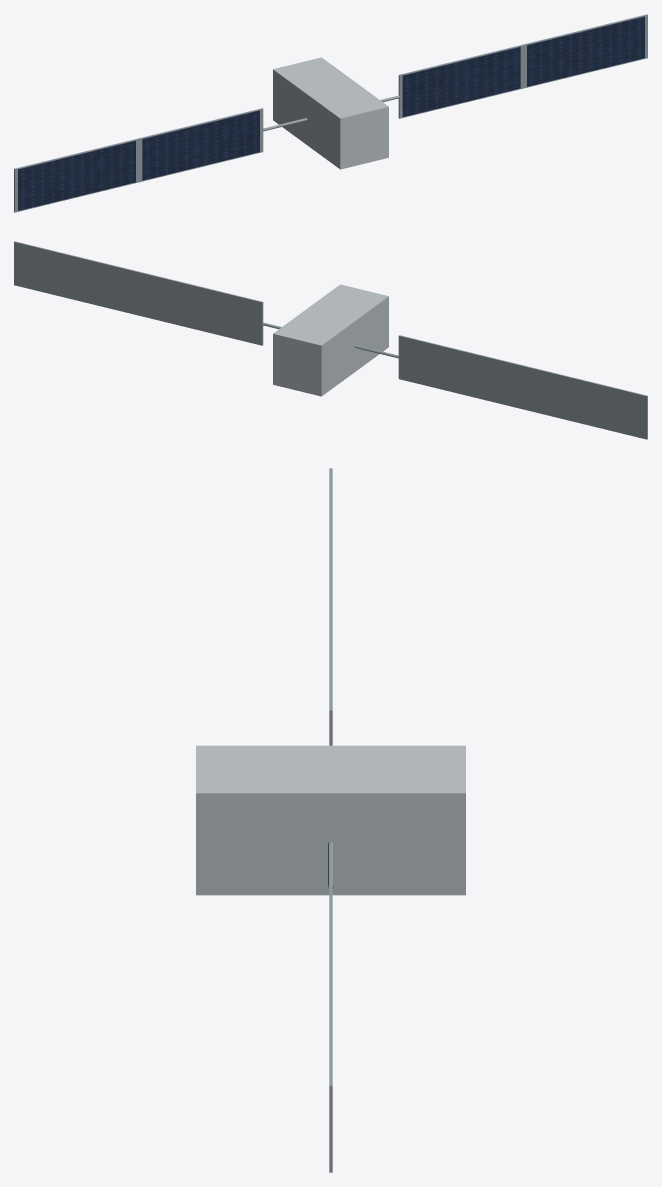
The model's file is ref-vigoride-52760.glb.
The picture shows the model from 3 angles, top to bottom: view 1: azimuth 30°, elevation 25°; view 2: azimuth 150°, elevation 25°; view 3: azimuth 270°, elevation 25°; orthographic projection. The views are drawn at different scales.
Parts seen in each view (by area): view 1: Photovoltaic laminates (×4), Spacecraft body, Array frame (×4); view 2: Array frame (×4), Spacecraft body; view 3: Spacecraft body.
Boxes of the visible parts, box(x1,y1,x2,y2) form: Photovoltaic laminates (×4): box(18, 16, 644, 210); Spacecraft body: box(273, 57, 388, 169); Array frame (×4): box(14, 14, 647, 212); Array frame (×4): box(14, 241, 647, 439); Spacecraft body: box(273, 284, 388, 396); Spacecraft body: box(196, 745, 465, 895).
Size of the model in its own units: 6.5 by 0.5 by 1.2.
Materials: 3 (1 with a texture image).
